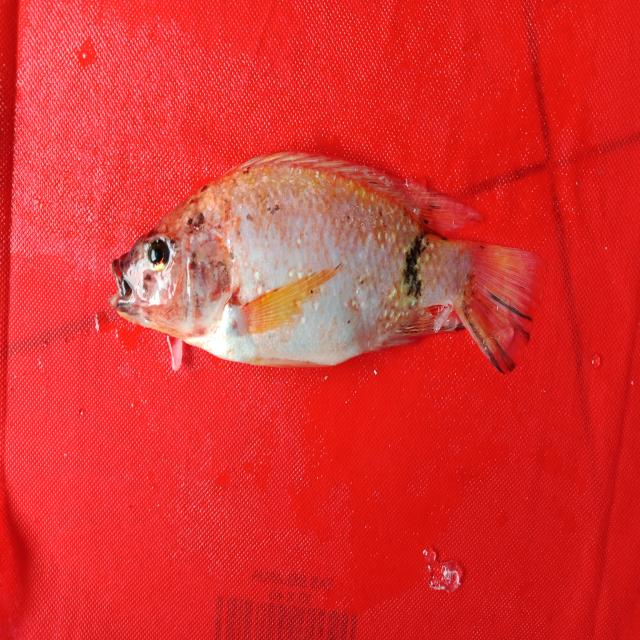ikan: (97, 126, 556, 400)
